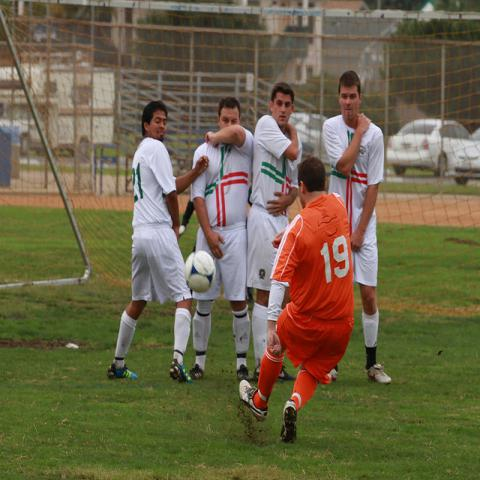car: (385, 117, 468, 178), (448, 129, 480, 182)
truck: (0, 63, 118, 161)
